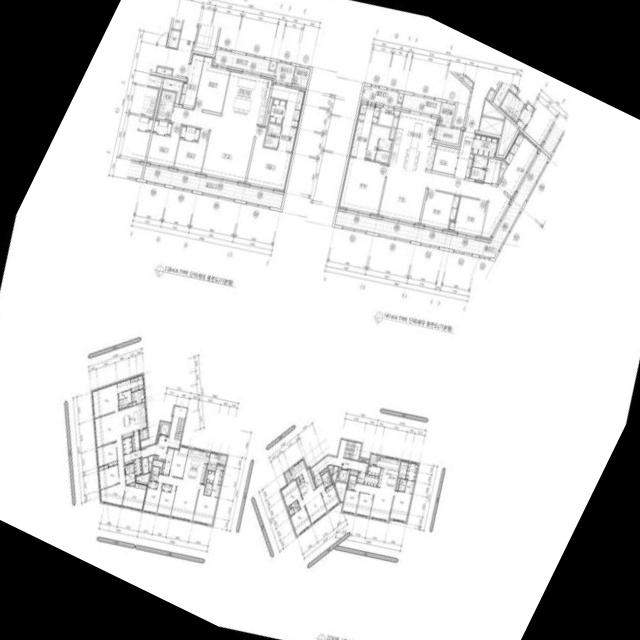background: (0, 0, 640, 640)
space_balconi: (334, 149, 548, 257), (214, 48, 274, 75), (401, 93, 441, 114), (361, 85, 401, 106), (274, 61, 294, 83), (284, 469, 292, 483), (217, 453, 226, 464), (139, 427, 147, 439), (369, 453, 377, 465)
space_bedroom: (245, 125, 292, 191), (338, 156, 387, 215), (497, 130, 539, 197), (194, 55, 230, 112), (447, 195, 487, 237), (420, 188, 459, 230), (173, 128, 209, 173), (145, 122, 181, 167), (192, 483, 217, 524), (91, 382, 118, 417), (432, 144, 458, 174), (121, 482, 147, 510), (389, 490, 411, 521), (168, 445, 188, 477), (289, 505, 310, 535), (156, 485, 176, 516), (142, 482, 162, 513), (280, 479, 301, 506), (97, 463, 118, 489), (320, 483, 339, 511), (96, 441, 117, 466), (355, 492, 373, 516), (341, 489, 359, 513), (180, 124, 199, 140), (152, 119, 172, 134), (147, 480, 157, 488), (161, 483, 171, 491)
space_dressroom: (270, 82, 305, 126), (349, 120, 371, 157), (356, 100, 380, 123), (277, 125, 297, 151), (268, 98, 286, 123), (405, 461, 418, 480), (130, 373, 143, 391), (212, 464, 223, 484), (206, 470, 214, 482)
space_elevator: (193, 22, 219, 54), (157, 421, 170, 435), (336, 467, 349, 481)
space_elevator_hall: (149, 19, 196, 78), (141, 405, 186, 459), (310, 455, 367, 476)
space_front: (179, 52, 204, 107), (454, 129, 474, 179), (471, 132, 499, 157), (161, 447, 173, 474), (123, 449, 140, 464), (122, 436, 131, 453), (133, 457, 141, 475), (312, 473, 322, 486), (356, 471, 365, 483)
space_kitchen: (389, 109, 437, 173), (221, 69, 273, 124), (289, 458, 315, 498), (119, 401, 146, 438), (182, 447, 208, 483), (376, 455, 400, 490)
space_living_room: (378, 165, 511, 239), (170, 105, 256, 183), (94, 410, 125, 505), (157, 473, 199, 520), (354, 482, 394, 520), (298, 482, 326, 523)
space_multipurpose_space: (377, 105, 400, 126)
space_other: (464, 73, 500, 130), (497, 117, 517, 155), (161, 76, 182, 103), (435, 124, 460, 143), (478, 115, 503, 134), (482, 98, 504, 118), (167, 29, 180, 47), (207, 451, 219, 470), (335, 481, 346, 501), (397, 459, 408, 478), (389, 116, 398, 138), (363, 473, 378, 486), (131, 388, 144, 403), (498, 160, 507, 180), (131, 429, 139, 451), (156, 66, 172, 75), (152, 459, 163, 472), (366, 465, 380, 475), (171, 17, 182, 29), (136, 472, 149, 482), (331, 465, 338, 483), (462, 75, 472, 87), (142, 456, 148, 473), (486, 88, 494, 100), (148, 454, 153, 471), (268, 60, 276, 70), (319, 467, 328, 475), (397, 92, 403, 102), (203, 469, 207, 483), (328, 464, 333, 474), (358, 457, 368, 462), (349, 469, 357, 475), (395, 477, 399, 489), (128, 401, 136, 405), (296, 477, 300, 484), (127, 481, 134, 485), (155, 435, 158, 442), (206, 451, 210, 455), (153, 454, 157, 458), (286, 505, 289, 510), (377, 455, 380, 459), (141, 398, 144, 401)
space_outdoor_room: (291, 65, 310, 87), (438, 101, 455, 125)
space_staircase: (337, 439, 361, 459), (173, 417, 184, 440)
space_toilet: (365, 124, 392, 162), (156, 89, 175, 120), (483, 157, 501, 183), (118, 389, 131, 408), (397, 478, 414, 492), (263, 134, 279, 148), (470, 166, 485, 180), (472, 154, 487, 168), (266, 122, 281, 136), (117, 378, 130, 392), (288, 499, 299, 515), (321, 470, 331, 487), (149, 465, 159, 480), (347, 474, 356, 489), (210, 483, 219, 496), (125, 471, 134, 483), (203, 488, 211, 495), (204, 482, 212, 489), (124, 463, 129, 474), (129, 462, 133, 472)
